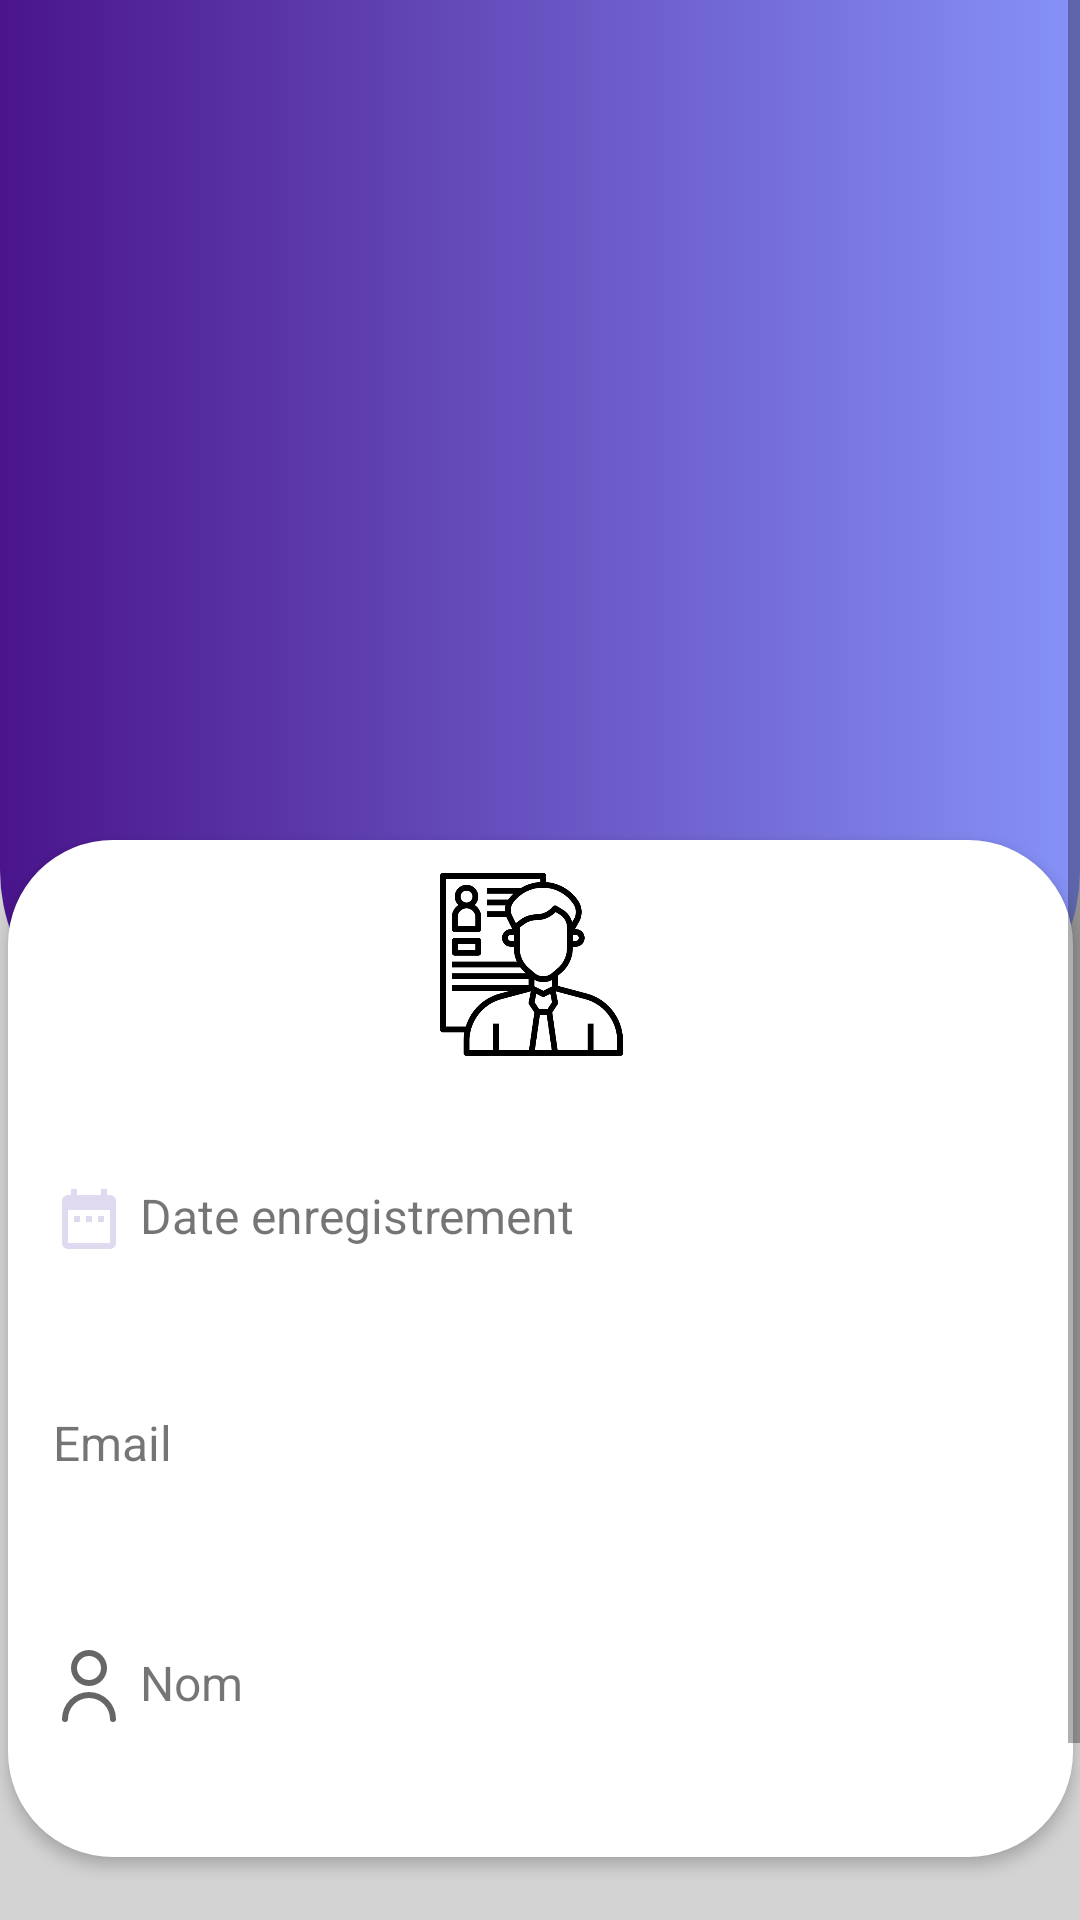

Point at icon controls on the screen. Image size 1080x1920, points as point (x, y).
information perso: point (531, 964)
